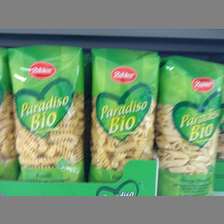pasta: (7, 45, 86, 182), (156, 55, 224, 196), (88, 49, 160, 182)
